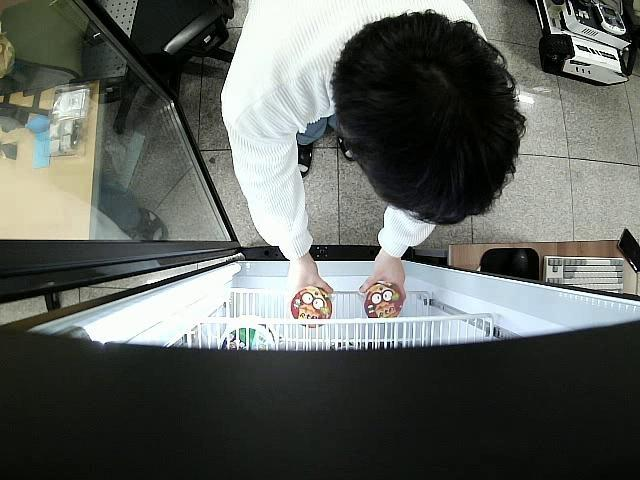06_nuguri_S: (292, 286, 332, 329), (363, 284, 404, 320)
